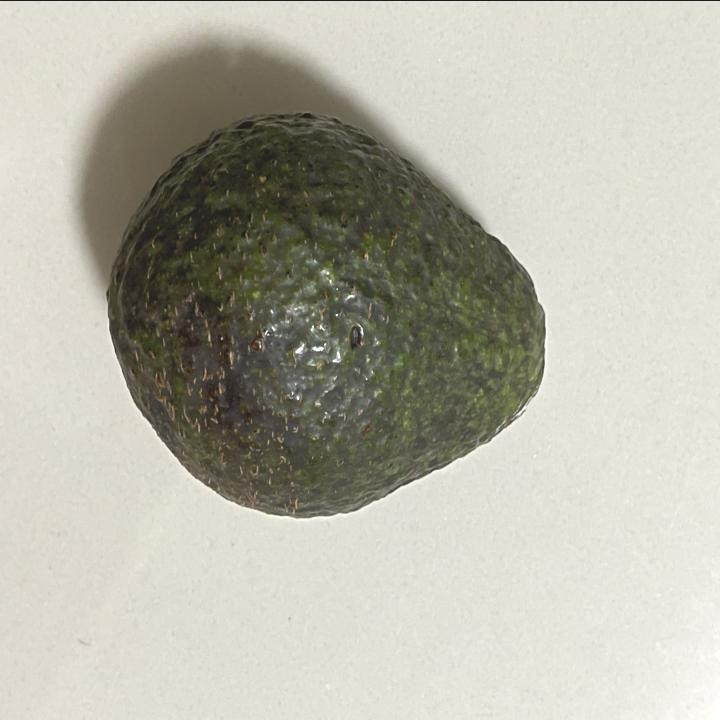Level1: (99, 98, 562, 528)
